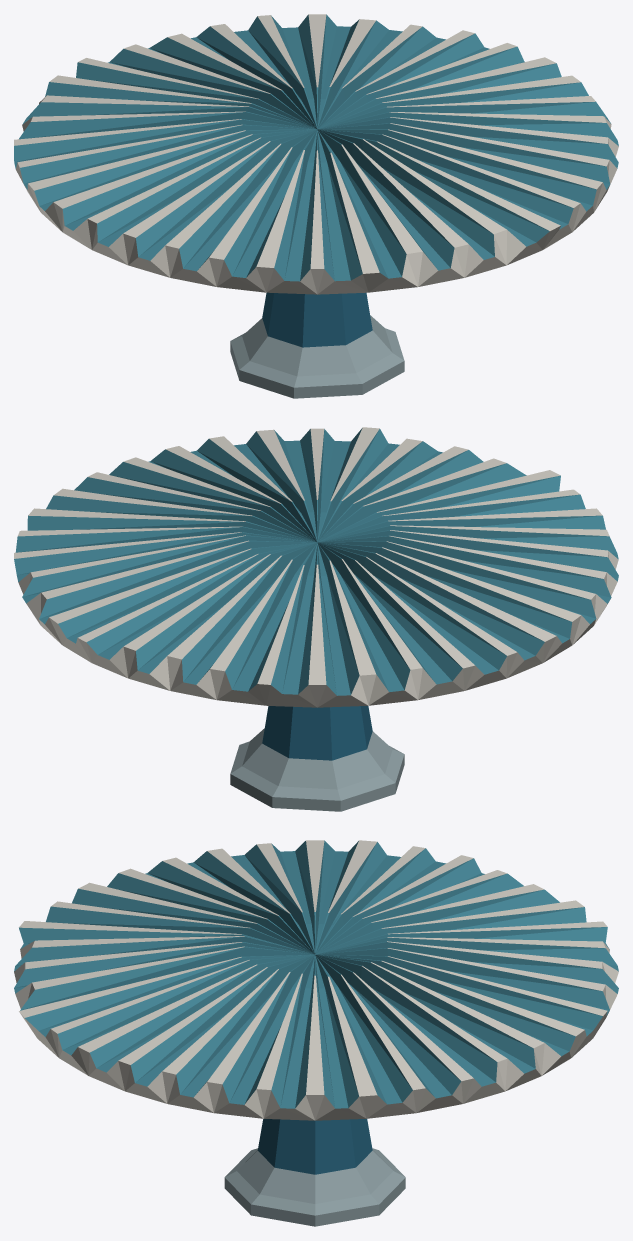
Rendered from table-acropora-883e0a.glb.
3 views of the same model, one above another, from view 1: azimuth 30°, elevation 25°; view 2: azimuth 150°, elevation 25°; view 3: azimuth 270°, elevation 25° (orthographic).
Parts seen in each view (by area): view 1: table-acropora-shell; view 2: table-acropora-shell; view 3: table-acropora-shell.
Boxes of the visible parts, left/top/right/bottom form: table-acropora-shell: left=14, top=14, right=618, bottom=398; table-acropora-shell: left=14, top=427, right=618, bottom=811; table-acropora-shell: left=14, top=840, right=618, bottom=1226.
Size of the model in its own units: 0.35 by 0.1563 by 0.3472.
